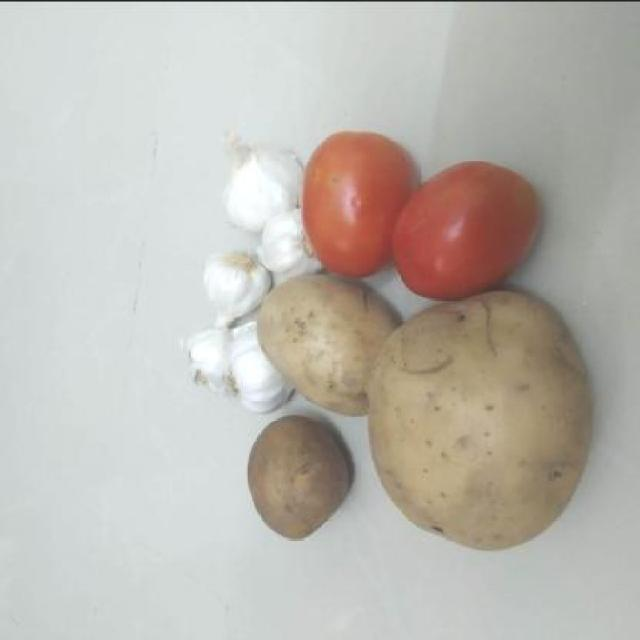Garlic: (216, 128, 302, 238), (204, 248, 276, 330), (187, 318, 236, 411)
Potato: (382, 292, 590, 558), (260, 277, 385, 420), (248, 412, 356, 542)
Tomato: (390, 156, 548, 298), (302, 127, 416, 276)
